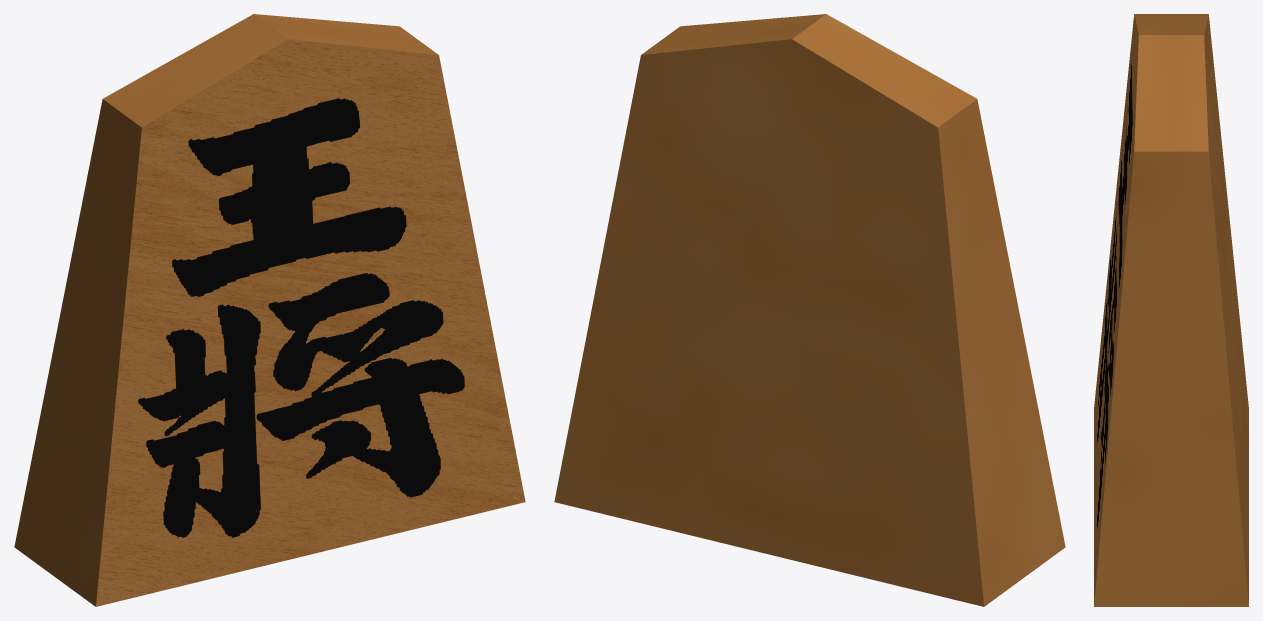
The model's file is ousyo_NoTen.glb.
The picture shows the model from 3 angles, left to right: view 1: azimuth 30°, elevation 25°; view 2: azimuth 150°, elevation 25°; view 3: azimuth 270°, elevation 25°; orthographic projection. The views are drawn at different scales.
Visible parts, largest first — view 1: 王将; view 2: 王将; view 3: 王将.
Boxes of the visible parts, x1=… form: 王将: x1=14, y1=14, x2=525, y2=606; 王将: x1=554, y1=14, x2=1065, y2=606; 王将: x1=1094, y1=14, x2=1248, y2=606.
Size of the model in its own units: 2.8 by 3.1 by 0.92.
1 material, 1 textured.
